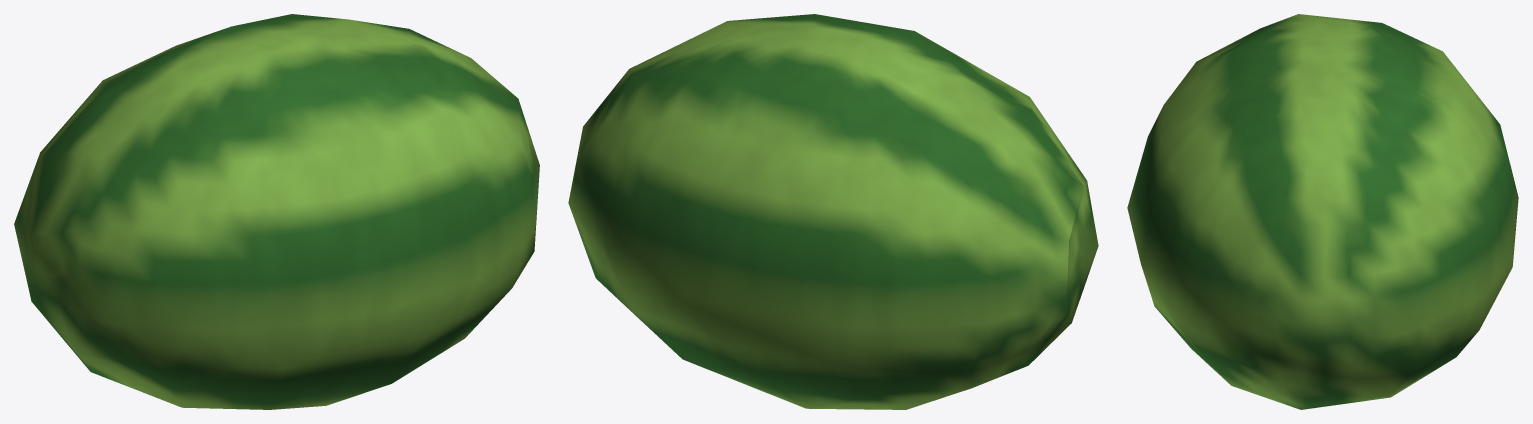
The model's file is Item_Watermelon.fbx.
3 views of the same model, side by side, from view 1: azimuth 30°, elevation 25°; view 2: azimuth 150°, elevation 25°; view 3: azimuth 270°, elevation 25° (orthographic). The views are drawn at different scales.
Parts seen in each view (by area): view 1: Item_Watermelon; view 2: Item_Watermelon; view 3: Item_Watermelon.
Boxes of the visible parts, x1=… form: Item_Watermelon: x1=14, y1=14, x2=539, y2=409; Item_Watermelon: x1=568, y1=14, x2=1098, y2=409; Item_Watermelon: x1=1127, y1=14, x2=1518, y2=409.
Size of the model in its own units: 0.3811 by 0.2597 by 0.2833.
1 material, 1 textured.
